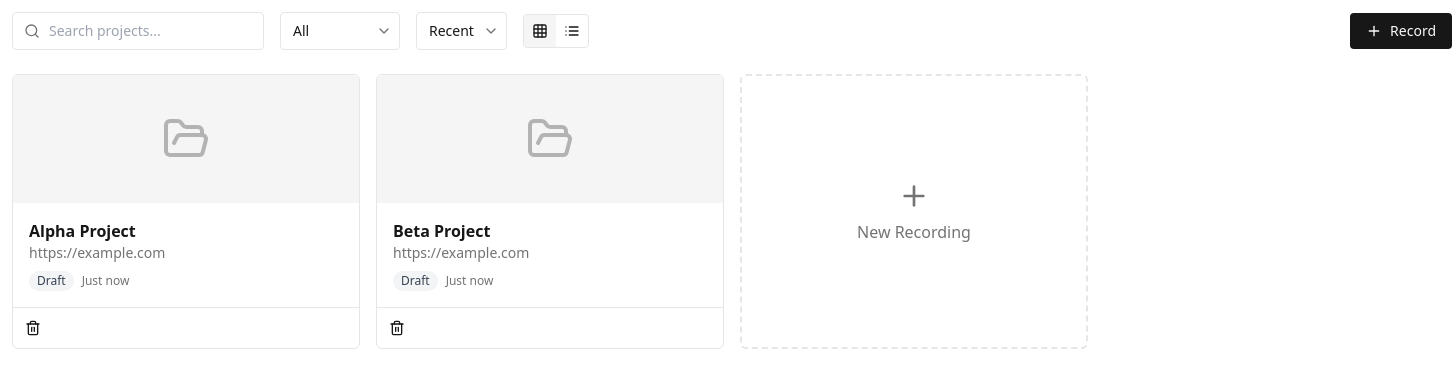
Test: ProjectList › should filter projects by search
Type "Alpha" into the field with placeholder "Search projects...".
click(138, 31); type("Alpha")  # box [12,12,264,50]
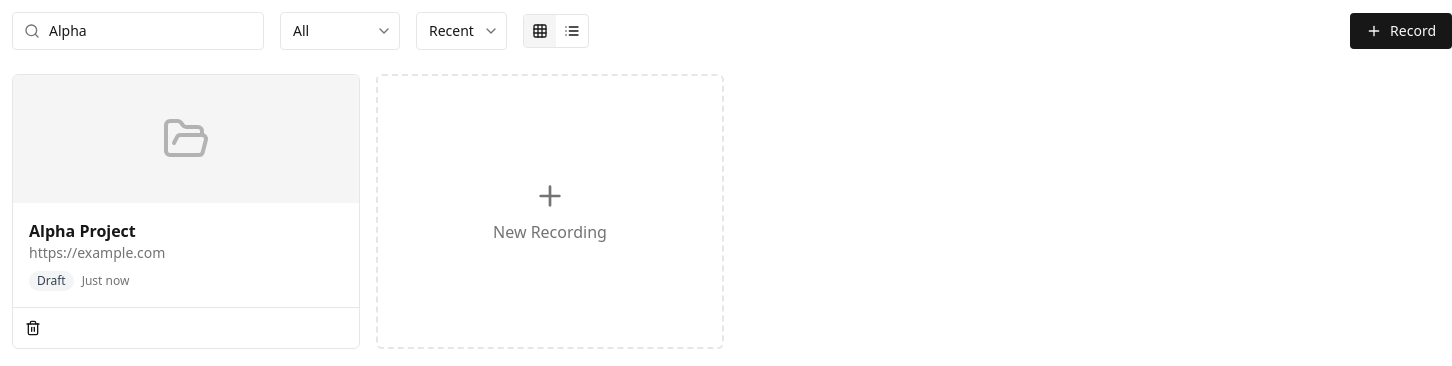
Expected: the heading "Alpha Project" is shown, [29,220,136,242]
Result: the link "Beta Project" is gone
